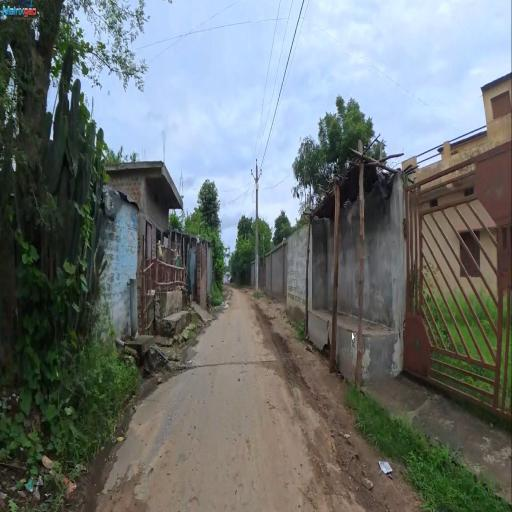longitudinal_crack: (179, 358, 281, 371)
